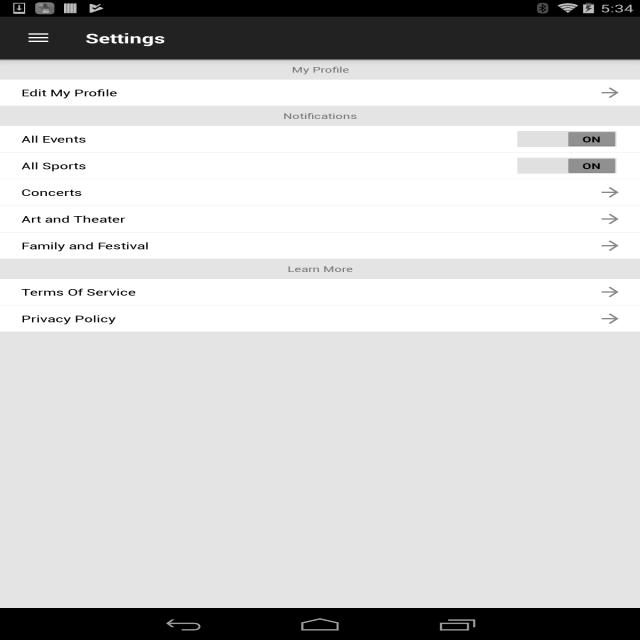ImageButton: (9, 17, 68, 59)
ImageView: (580, 87, 640, 98), (580, 187, 640, 198), (580, 240, 640, 251), (580, 313, 640, 324), (580, 214, 640, 224), (580, 287, 640, 297)
Switch: (515, 156, 619, 175), (515, 130, 619, 148)
TextView: (0, 110, 640, 122), (0, 64, 640, 75), (0, 264, 640, 274), (0, 239, 149, 251), (0, 286, 136, 298), (0, 86, 118, 99), (0, 213, 126, 225), (0, 312, 116, 325), (86, 29, 166, 47), (0, 186, 83, 199), (21, 159, 87, 172), (21, 133, 87, 145)
